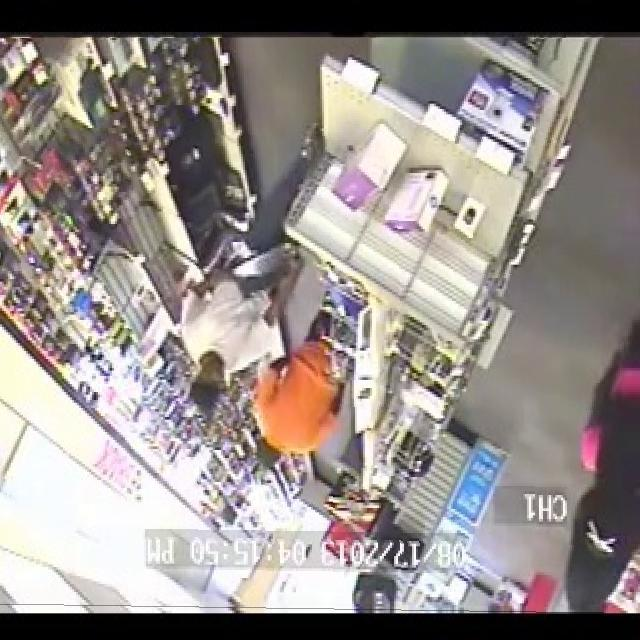Normal: (0, 38, 638, 614)
